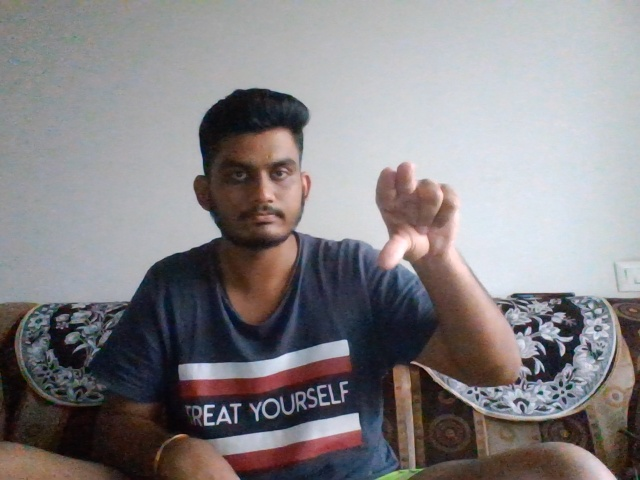No: (370, 159, 468, 269)
